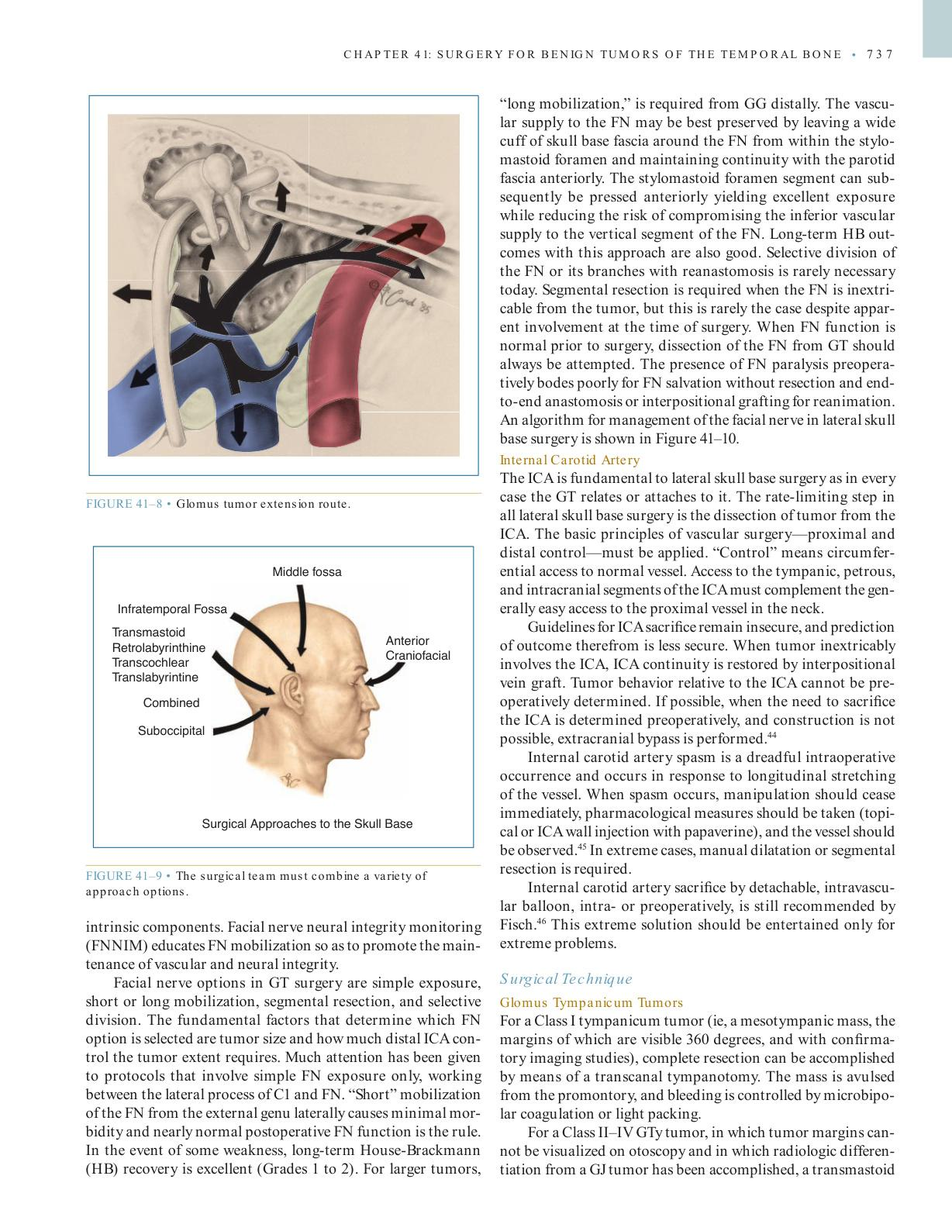caption: (84, 867, 429, 901), (85, 496, 351, 510)
header: (342, 47, 844, 61)
image: (107, 113, 459, 457), (96, 550, 469, 843)
section-heading: (499, 972, 633, 988)
sub-section-heading: (499, 996, 683, 1011), (499, 453, 641, 468)
text: (499, 470, 897, 956), (497, 95, 900, 448), (82, 917, 484, 1180), (498, 1014, 898, 1181)
